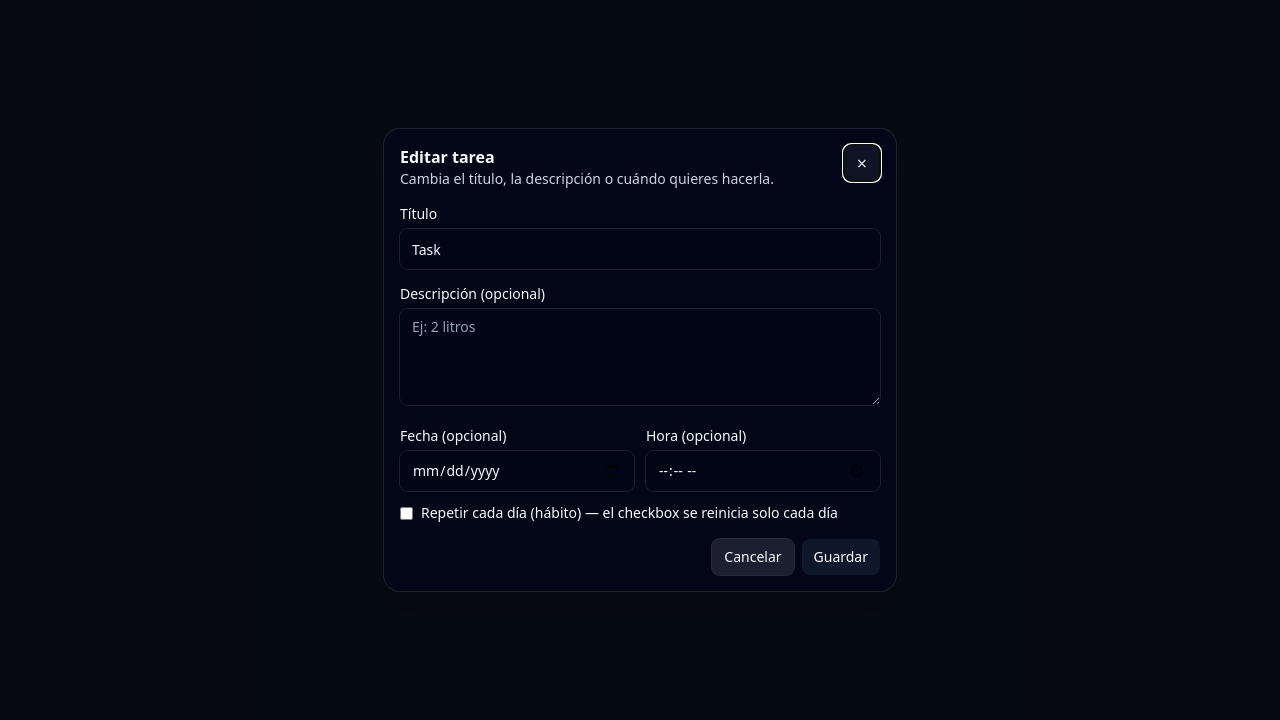
Scenario: TaskFormModal › shows the specific error message when saving fails with a real Error
Click the button "Guardar". click: [841, 557]
box: [802, 539, 880, 575]
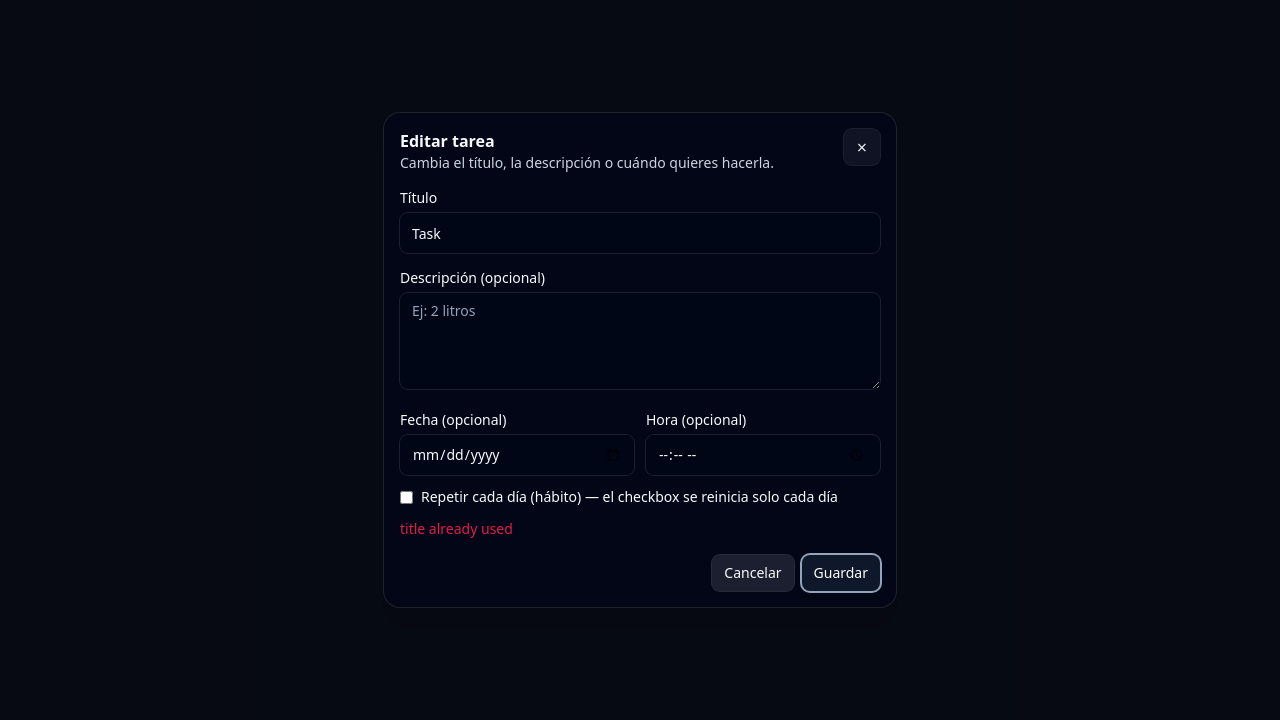
Expected: the text "title already used" is shown, [400, 519, 513, 538]
